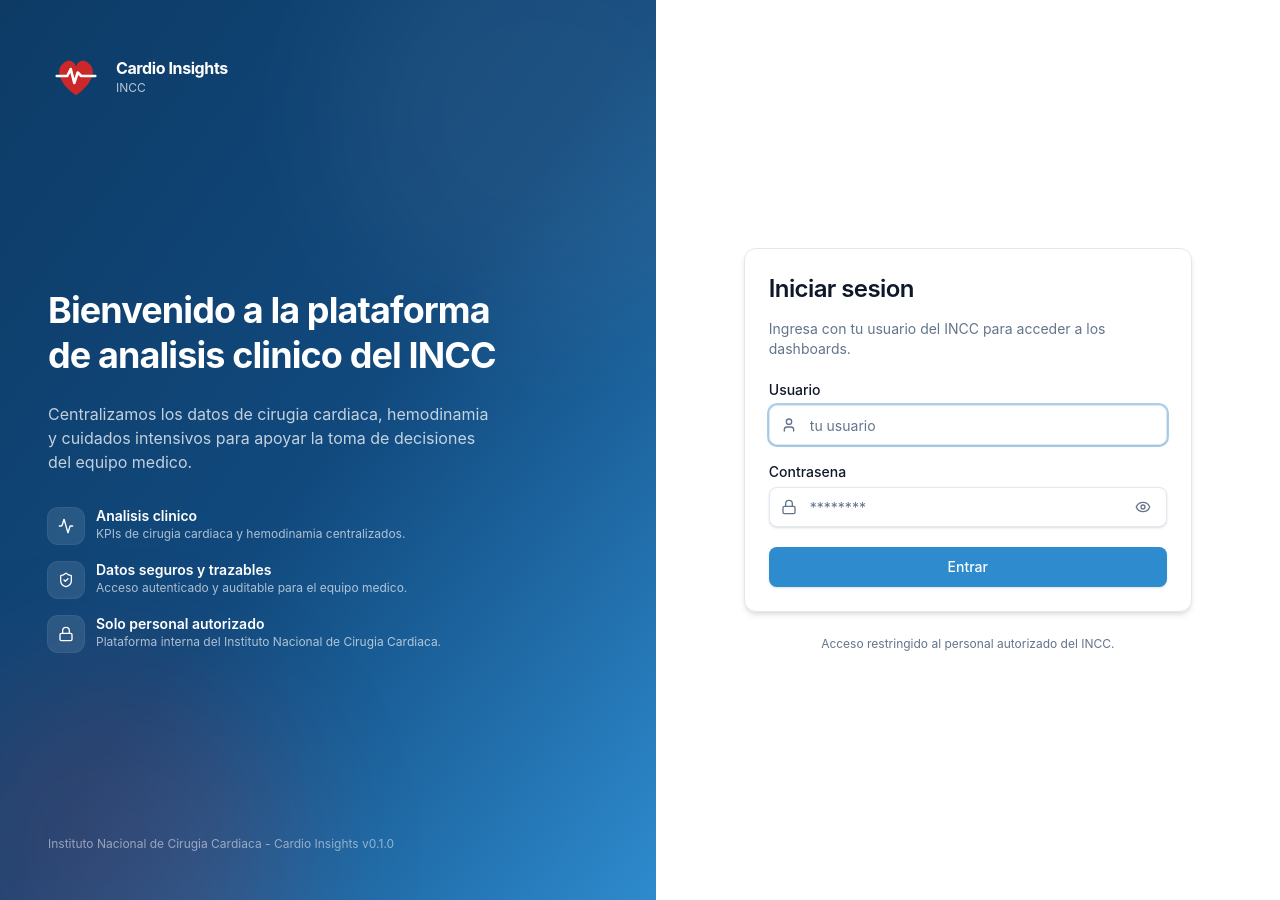
LoginPage › muestra ApiError del servidor
The image size is (1280, 900).
Step 1. Type "bad" into the field labelled "Usuario" → [968, 425], box [769, 405, 1167, 445]
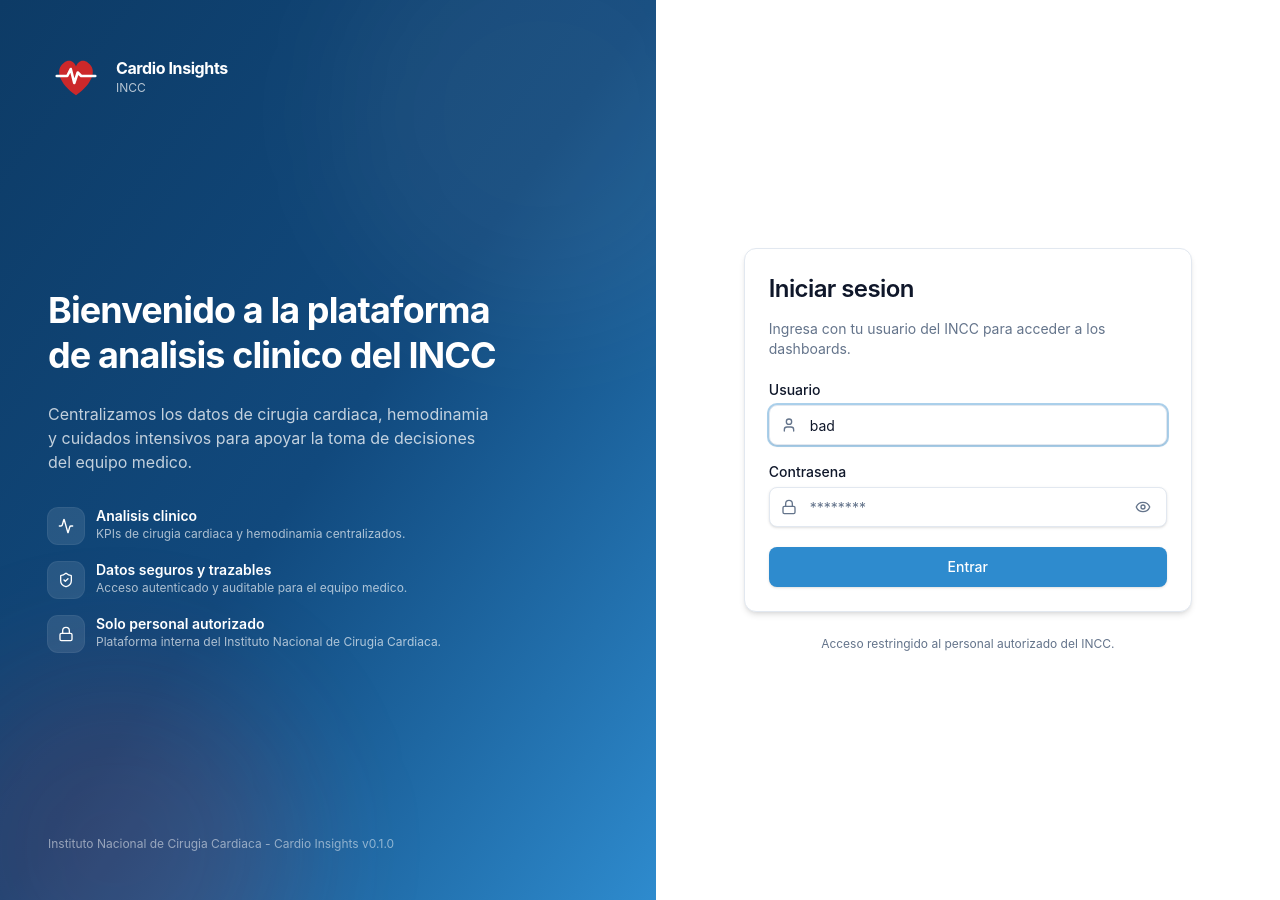
Step 2. Type "bad" into the password field labelled "Contrasena" → [968, 507], box [769, 487, 1167, 527]
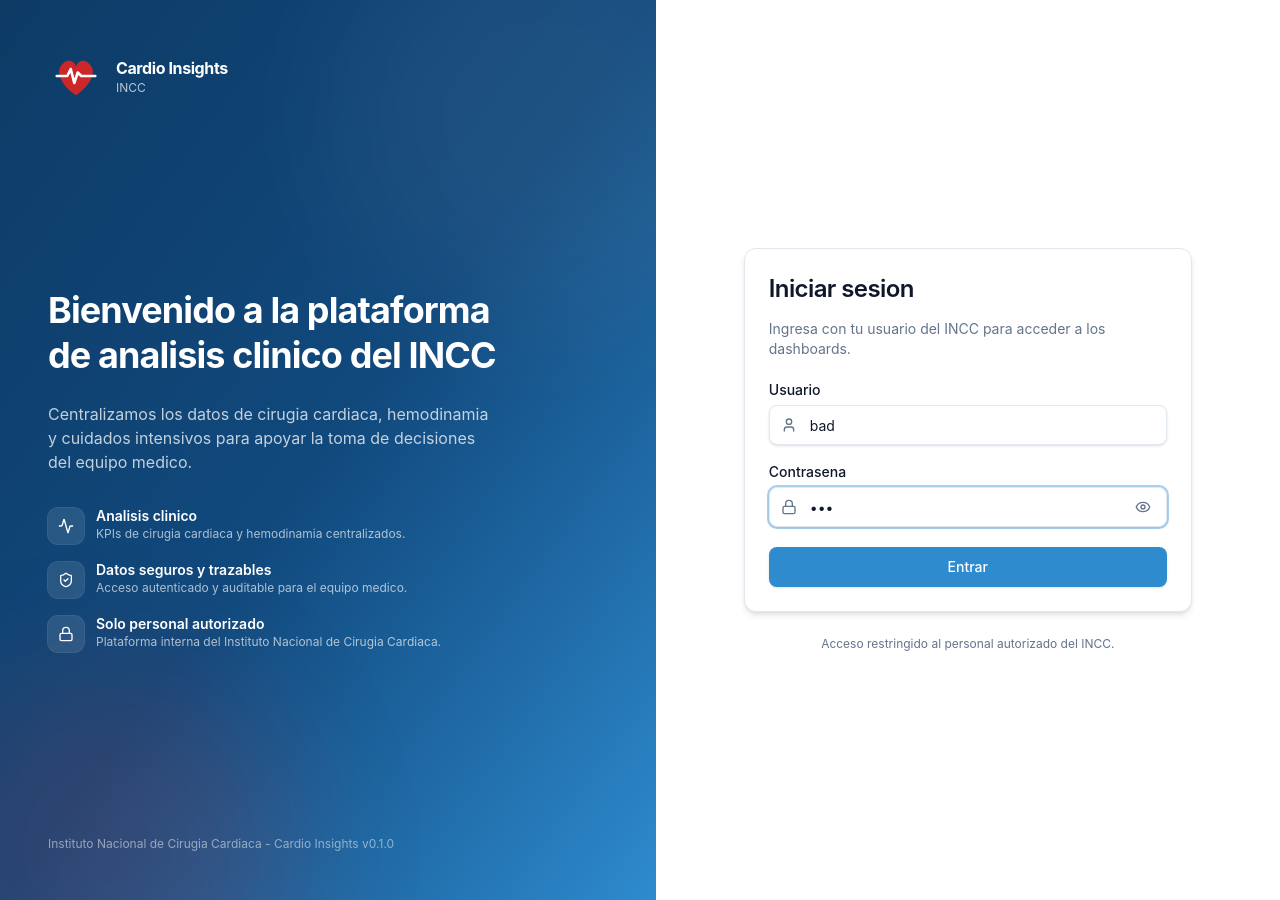
Step 3. Click the button "Entrar" → [968, 567], box [769, 547, 1167, 587]
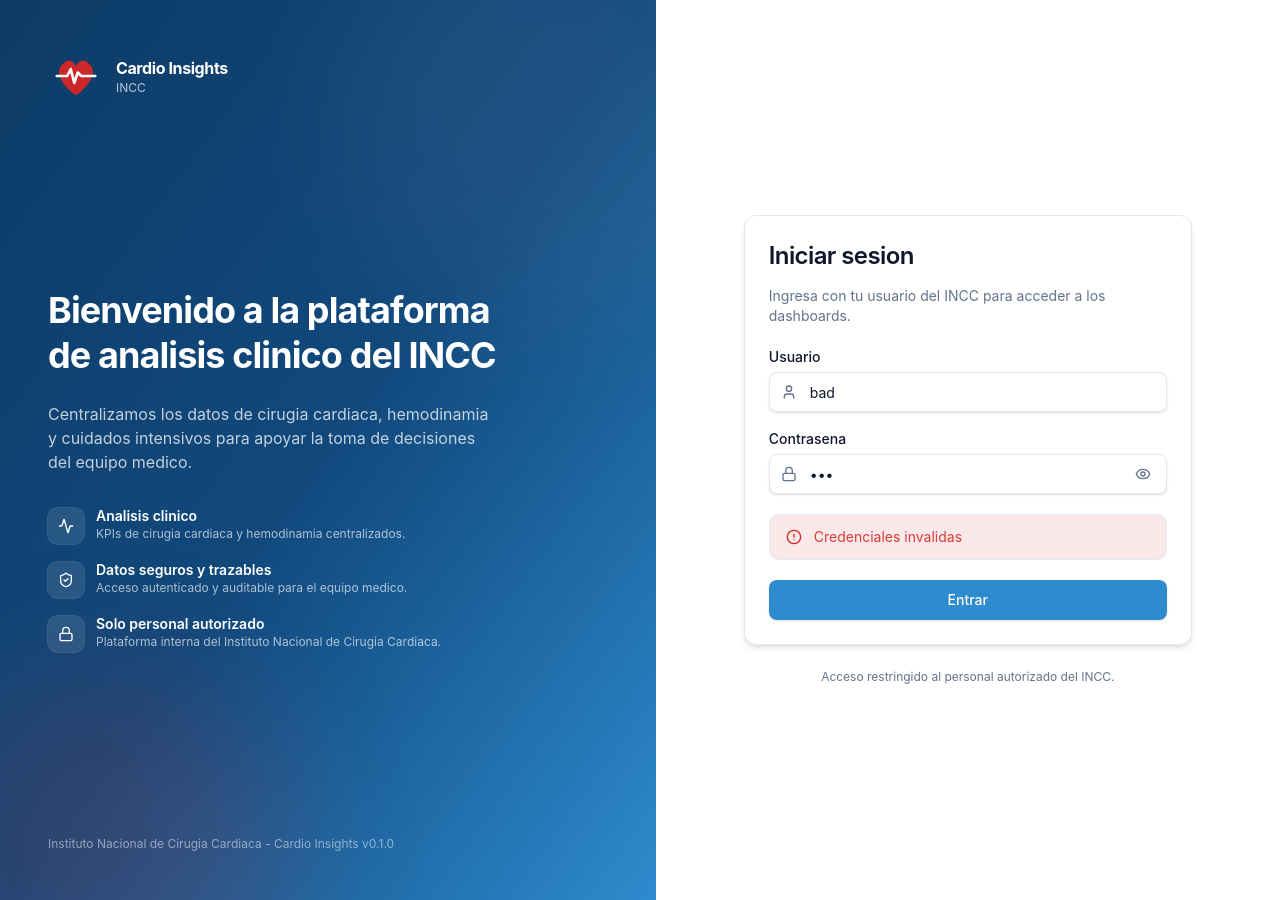
Now the text "Credenciales invalidas" is shown, box [814, 528, 962, 545]
